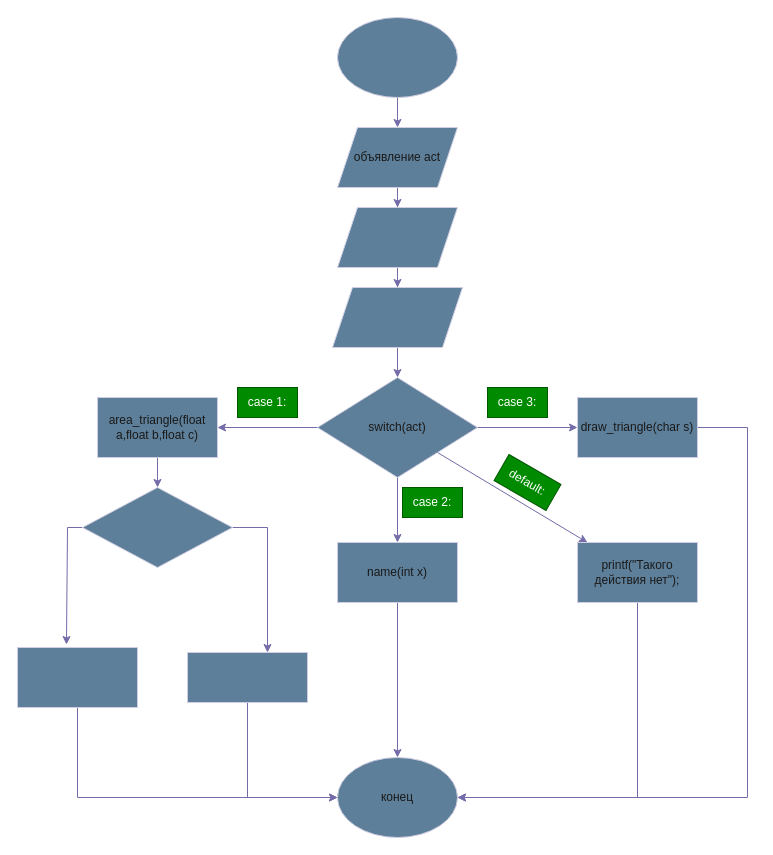
Some shapes in this 773 by 855 pixel diagram are drawn without their labels. Here are the shapes that lost their labels. From the top down, the centre of each, then its label:
point 397,57: начало
point 397,237: вывод меню действий
point 397,317: ввод значения act
point 157,527: (a == b || a == c || b == c)
point 77,677: printf("Площадь равнобедренного треугольника равна:%lf\n", square);
point 247,677: else printf("Это не равнобедренный треугольник\n");
